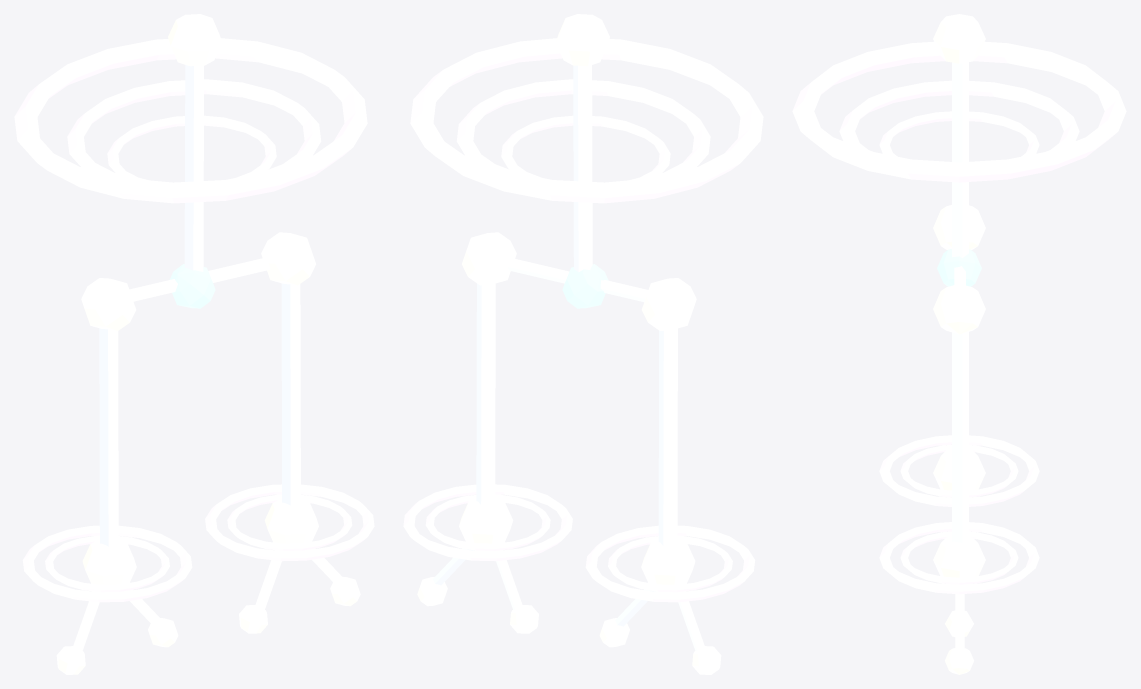
File: neuron2.glb
3 views of the same model, side by side, from view 1: azimuth 30°, elevation 25°; view 2: azimuth 150°, elevation 25°; view 3: azimuth 270°, elevation 25° (orthographic). The views are drawn at different scales.
Visible parts, largest first — view 1: n2; view 2: n2; view 3: n2.
Boxes of the visible parts, box(x1,y1,x2,y2) form: n2: box(14, 14, 374, 674); n2: box(403, 14, 763, 674); n2: box(792, 14, 1126, 674).
Size of what is drawn, in the model's own units: 2.29 by 4.2 by 2.14.
Materials: 1 (1 with a texture image).
